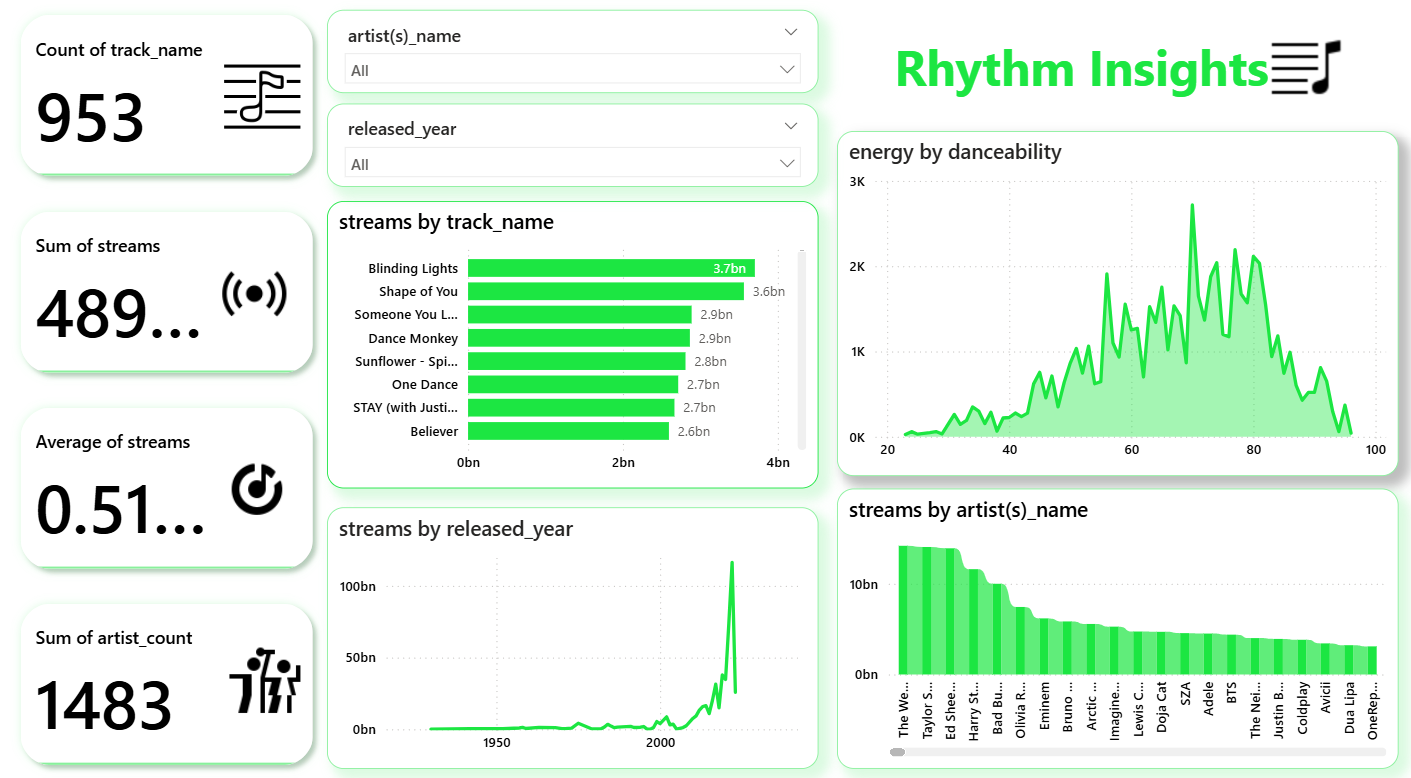

Layout of this report page (visuals, bound fields, positions):
{"tool":"powerbi","page":{"name":"Page 1","canvas":[1280,720],"ordinal":0},"visuals":[{"type":"cardVisual","fields":{"Data":["CountNonNull(spotify-2023.track_name)","Sum(spotify-2023.streams)","Avg(spotify-2023.streams)","Sum(spotify-2023.artist_count)"]},"box":[0,0,307.4,720.4],"z":0},{"type":"barChart","title":"streams by track_name","fields":{"Category":["spotify-2023.track_name"],"Y":["Sum(spotify-2023.streams)"]},"box":[297.8,189.4,443.2,259.3],"z":1000},{"type":"lineChart","title":"streams by released_year","fields":{"Category":["spotify-2023.released_year"],"Y":["Sum(spotify-2023.streams)"]},"box":[297.8,465.2,443.2,236],"z":2000},{"type":"areaChart","title":" energy by danceability","fields":{"Category":["spotify-2023.danceability_%"],"Y":["Sum(spotify-2023.energy_%)"]},"box":[757.5,126.2,506.3,311.5],"z":3000},{"type":"ribbonChart","title":"streams by artist(s)_name","fields":{"Y":["Sum(spotify-2023.streams)"],"Category":["spotify-2023.artist(s)_name"]},"box":[757.5,448.7,506.3,252.5],"z":4000},{"type":"slicer","fields":{"Values":["spotify-2023.artist(s)_name"]},"box":[297.8,16.5,443.2,75.5],"z":5000},{"type":"slicer","fields":{"Values":["spotify-2023.released_year"]},"box":[297.8,101.5,443.2,75.5],"z":6000},{"type":"actionButton","box":[804.1,0,414.4,134.5],"z":6001}]}

Visuals, with their boxes in screenshot pixels (x1, y1, x2, y2), scaled from the page's 1280x720 canvas onto the 1411x778 screenshot:
cardVisual - CountNonNull(spotify-2023.track_name) x Sum(spotify-2023.streams): locate(0, 0, 339, 777)
"streams by track_name" barChart: locate(328, 205, 817, 485)
"streams by released_year" lineChart: locate(328, 503, 817, 758)
" energy by danceability" areaChart: locate(835, 136, 1393, 473)
"streams by artist(s)_name" ribbonChart: locate(835, 485, 1393, 758)
slicer - spotify-2023.artist(s)_name: locate(328, 18, 817, 99)
slicer - spotify-2023.released_year: locate(328, 110, 817, 191)
actionButton: locate(886, 0, 1343, 145)
